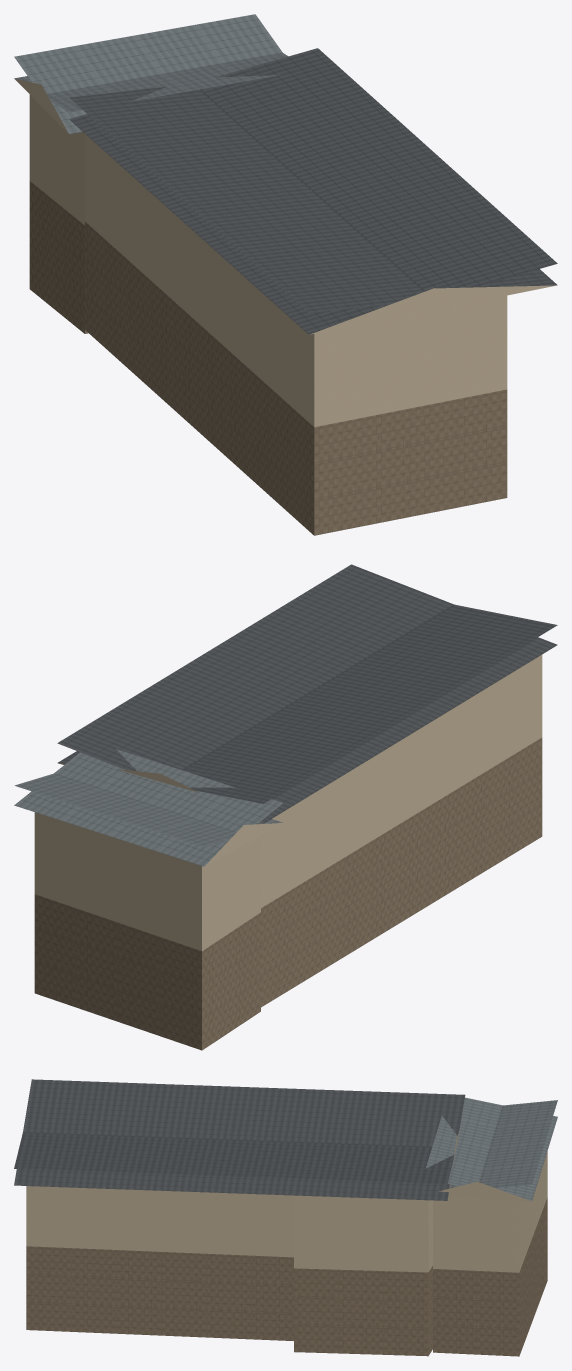
Rendered from bld_c32_-37_447.gltf.
The picture shows the model from 3 angles, top to bottom: view 1: azimuth 30°, elevation 25°; view 2: azimuth 150°, elevation 25°; view 3: azimuth 270°, elevation 25°; orthographic projection. The views are drawn at different scales.
Parts seen in each view (by area): view 1: bld_c32_-37_447; view 2: bld_c32_-37_447; view 3: bld_c32_-37_447.
Boxes of the visible parts, bbox=[...] form: bld_c32_-37_447: bbox=[14, 14, 557, 535]; bld_c32_-37_447: bbox=[14, 564, 557, 1050]; bld_c32_-37_447: bbox=[14, 1079, 557, 1356].
Size of the model in its own units: 13.44 by 10.8 by 29.48.
Materials: 5 (5 with a texture image).
